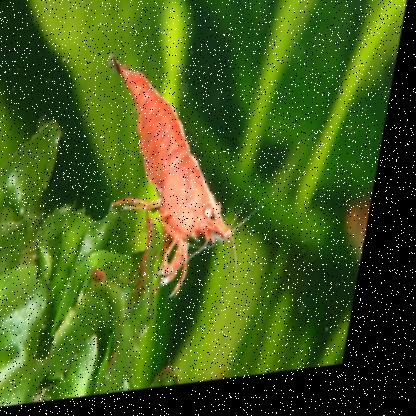shrimp: (76, 41, 268, 312)
